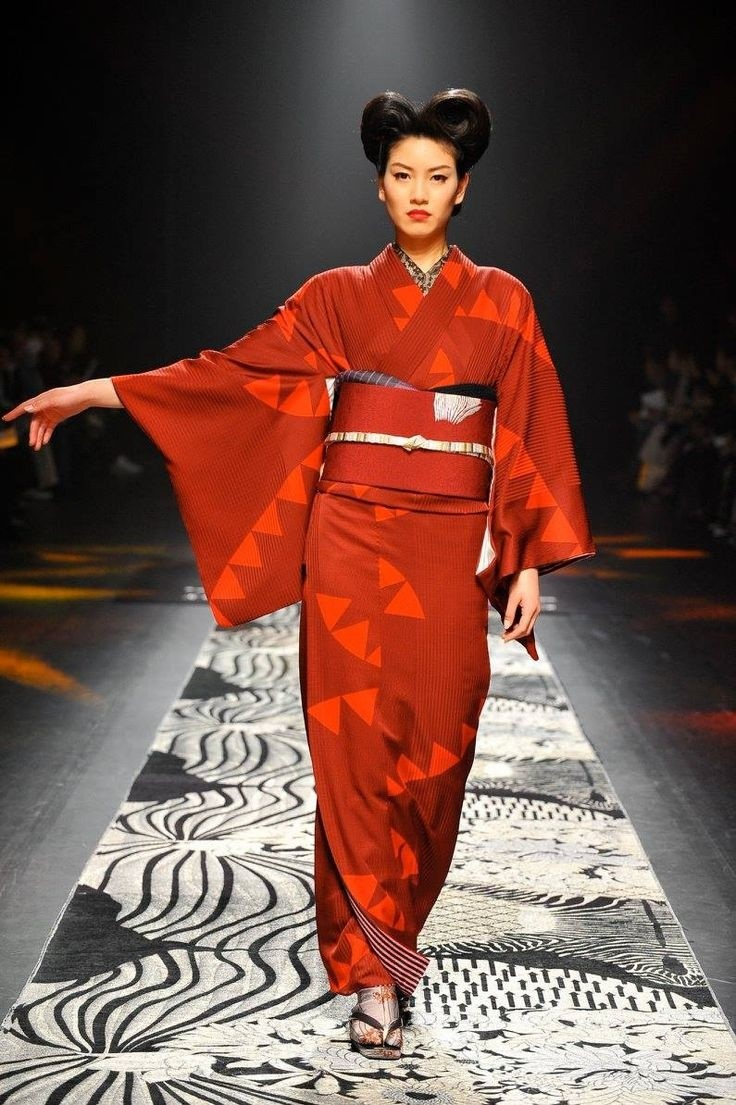face_no_mask: (362, 84, 486, 239)
